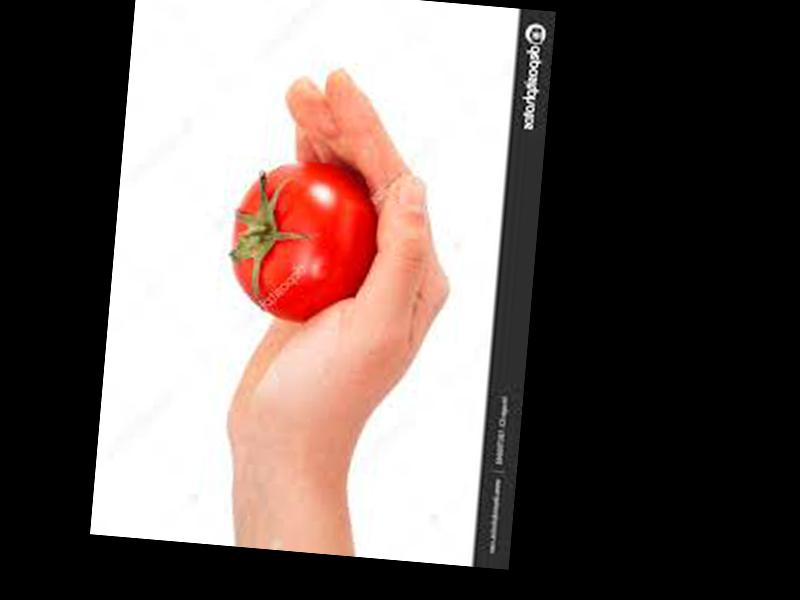Tomato: (227, 160, 380, 329)
